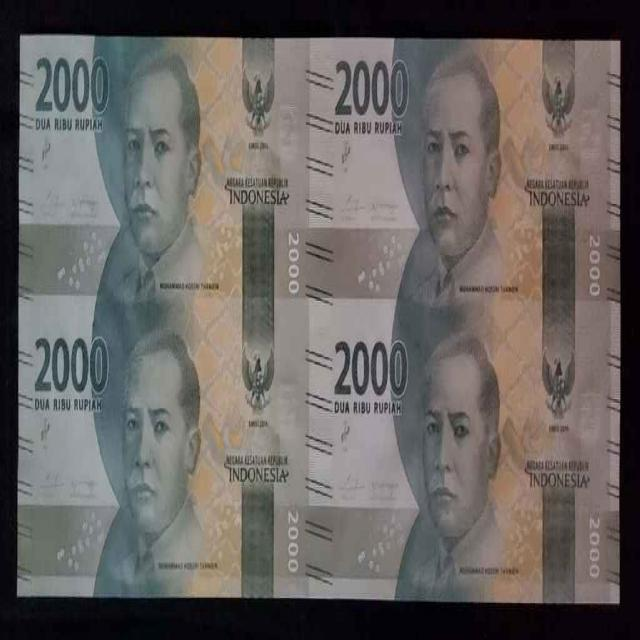dua ribu rupiah: (304, 297, 624, 601), (19, 293, 308, 601), (309, 44, 623, 294), (20, 35, 308, 292), (118, 318, 199, 549), (419, 324, 506, 538), (116, 64, 204, 245), (422, 60, 498, 244), (324, 321, 411, 422), (32, 316, 108, 413), (335, 54, 412, 142), (28, 58, 110, 140)
